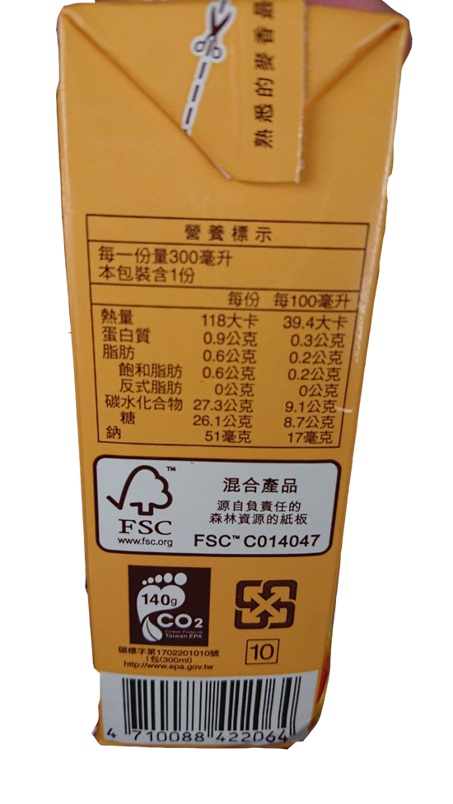milk tea: (30, 1, 412, 756)
